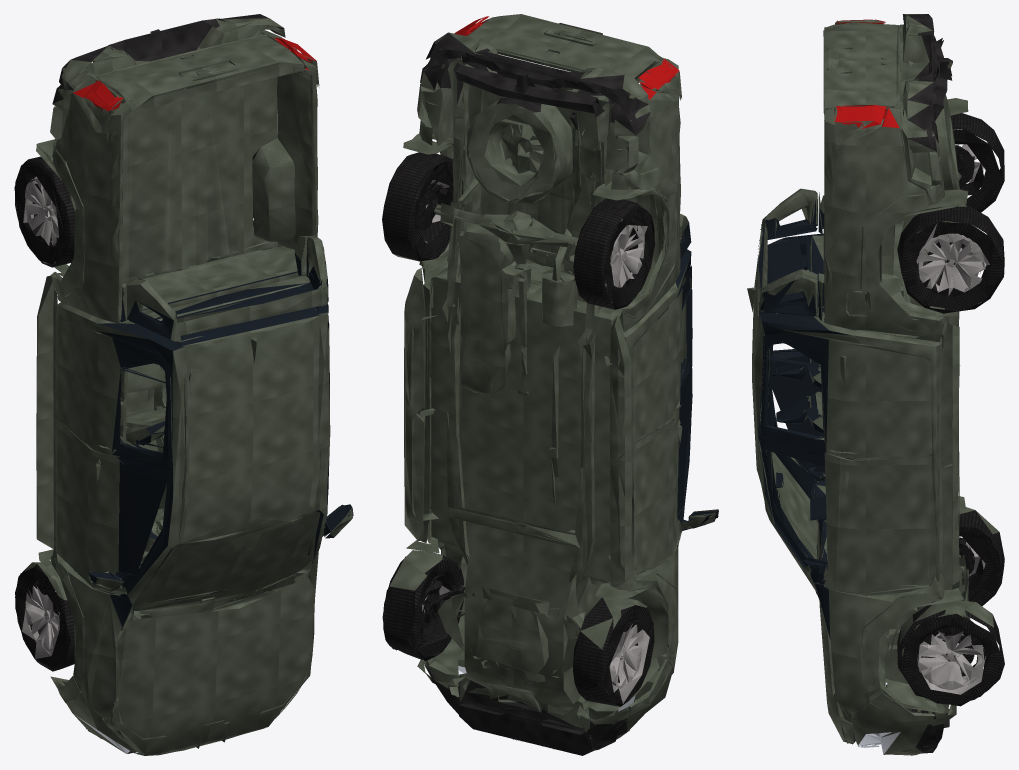
File: hilux_tex.obj
The picture shows the model from 3 angles, left to right: view 1: azimuth 30°, elevation 25°; view 2: azimuth 150°, elevation 25°; view 3: azimuth 270°, elevation 25°; orthographic projection. The views are drawn at different scales.
Visible parts, largest first — view 1: paint, glass, tyre, rim, trim, taillight; view 2: paint, tyre, trim, rim, glass, taillight; view 3: paint, tyre, glass, rim, trim, taillight, headlight.
Boxes of the visible parts, x1,y1,x2,y2 form: paint: [24, 18, 352, 755]; glass: [87, 239, 353, 627]; tyre: [14, 148, 288, 671]; rim: [22, 176, 59, 658]; trim: [52, 14, 283, 753]; taillight: [73, 37, 315, 111]; paint: [389, 14, 717, 750]; tyre: [382, 152, 654, 706]; trim: [420, 32, 649, 755]; rim: [420, 180, 649, 703]; glass: [676, 222, 718, 547]; taillight: [454, 16, 679, 99]; paint: [747, 14, 999, 755]; tyre: [897, 113, 1004, 706]; glass: [758, 200, 861, 639]; rim: [916, 129, 989, 694]; trim: [905, 14, 952, 753]; taillight: [834, 19, 899, 128]; headlight: [858, 682, 900, 754].
Size of the model in its own units: 2.09 by 5.32 by 1.83.
7 materials, 4 textured.
